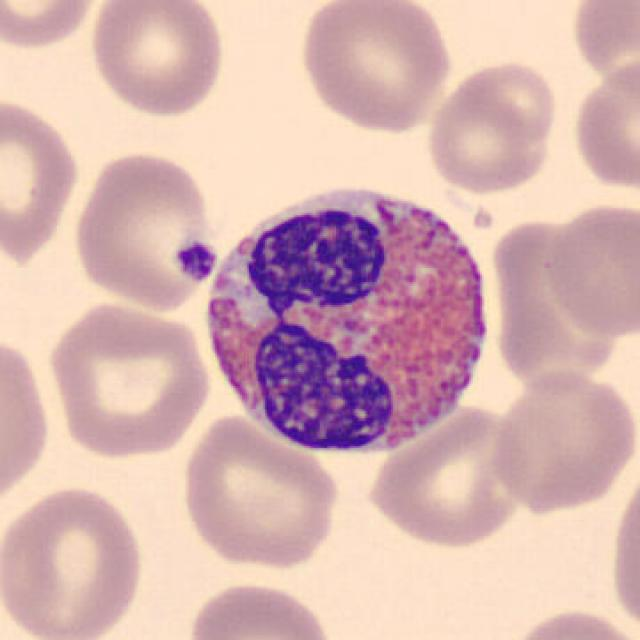Eosinophil: (194, 169, 503, 464)
Platelets: (172, 236, 220, 284)
RBC: (43, 298, 213, 462), (176, 411, 343, 573), (68, 146, 222, 316), (364, 400, 534, 550), (0, 481, 148, 640), (486, 365, 638, 515), (295, 0, 457, 136), (423, 56, 560, 198), (86, 0, 230, 120), (0, 91, 84, 272), (539, 198, 638, 340), (0, 326, 55, 518), (569, 51, 640, 196), (183, 576, 337, 640), (604, 457, 640, 638), (567, 0, 638, 86), (0, 0, 105, 53), (499, 604, 638, 640)
